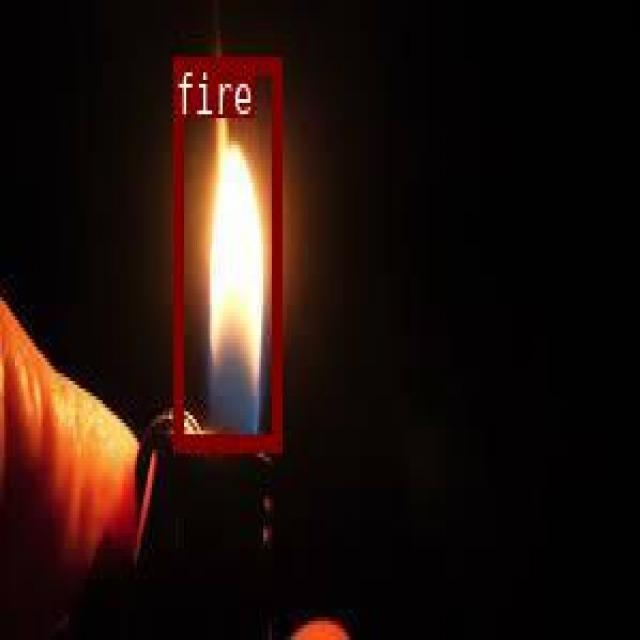fire: (172, 55, 280, 446)
